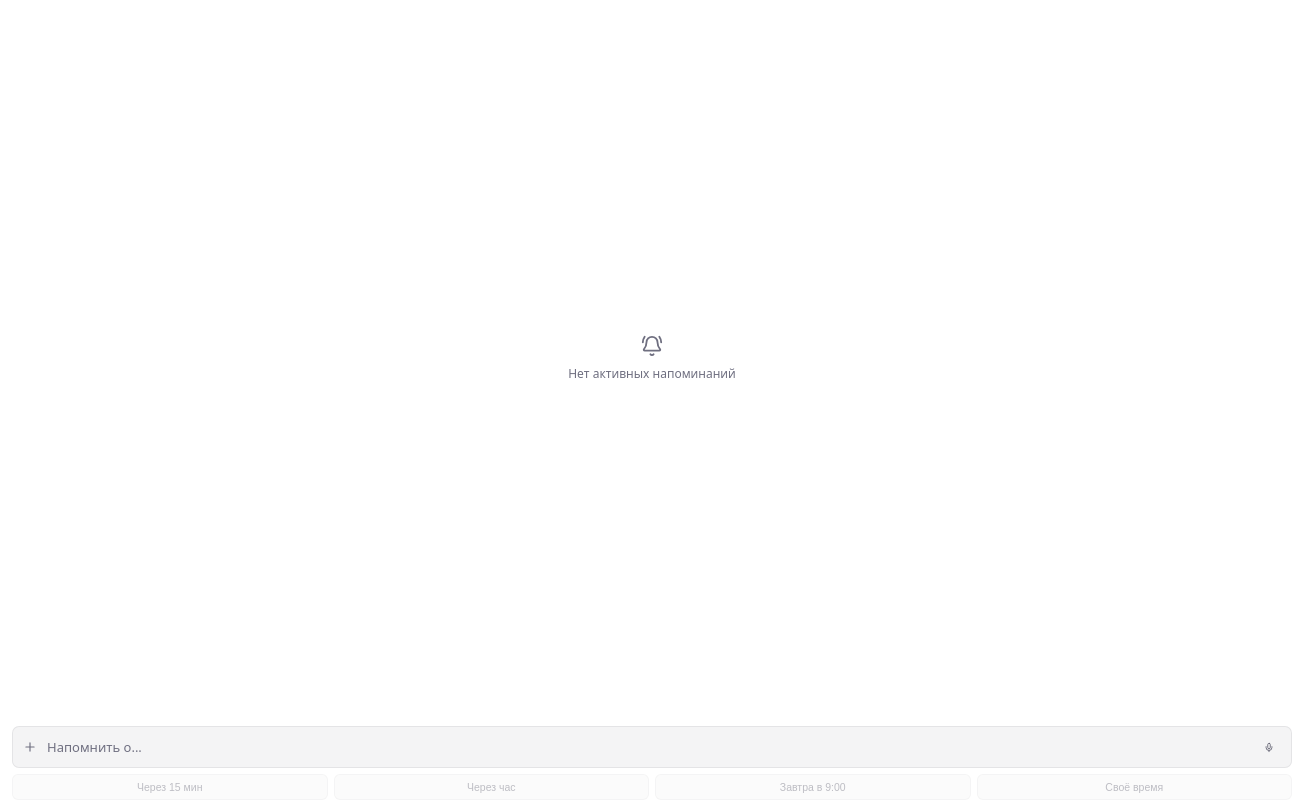
Test: RemindersView › creates a reminder with a custom date and time
Expected: the text "Нет активных напоминаний" is shown, [568,364,736,382]
Type "Встреча с командой" into the field with placeholder "Напомнить о..." at (647, 747), box [45,737,1249,757]
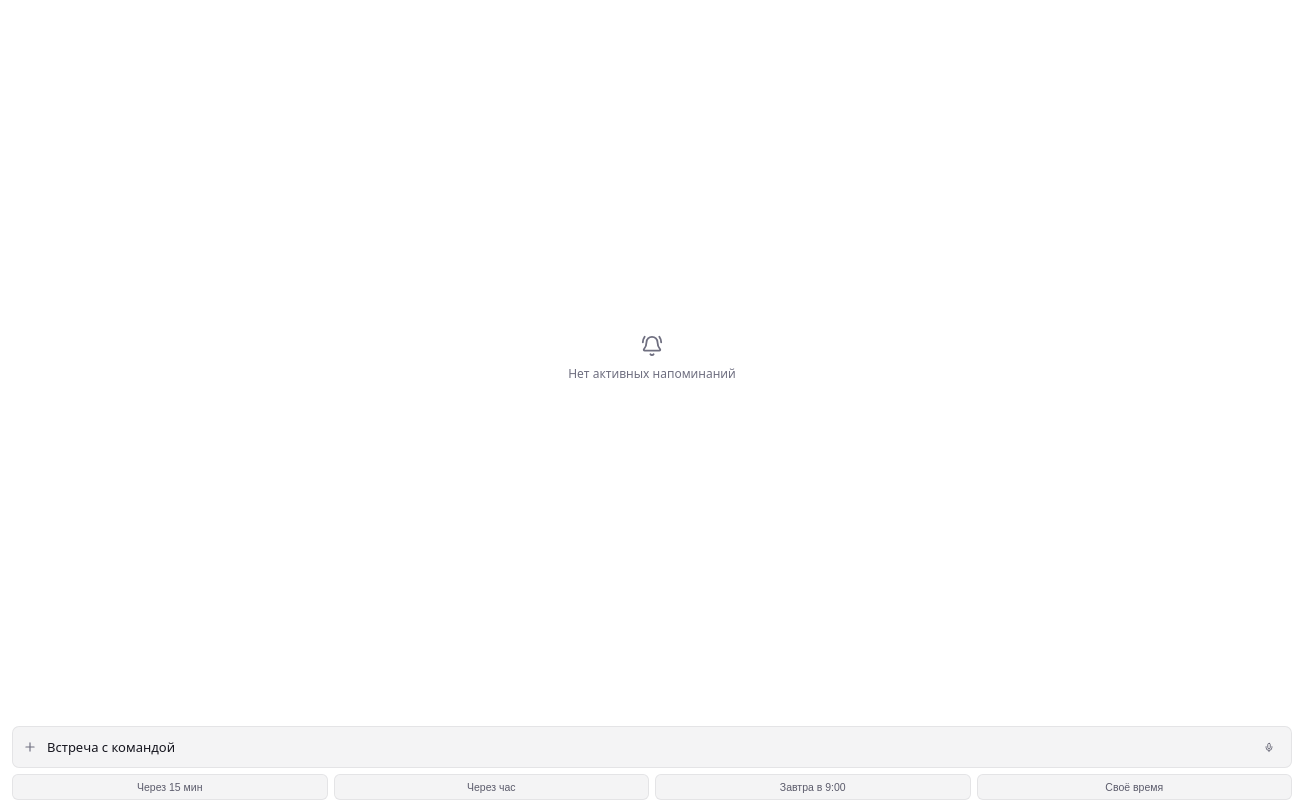
Click the button "Своё время" at (1134, 787), box [976,774,1292,799]
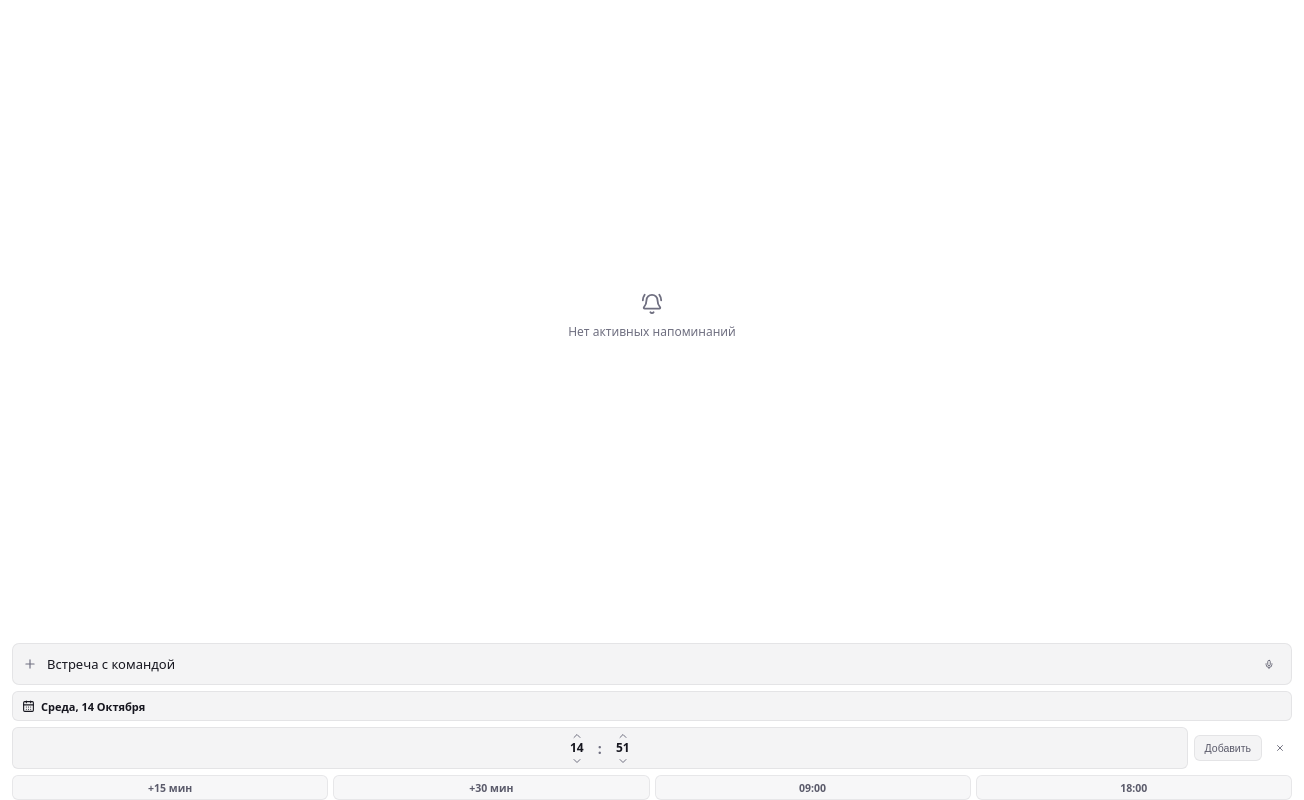
Expected: the button with aria-label "Дата и время напоминания" is shown, [12,691,1292,721]
Click the button "Добавить" at (1228, 748), box [1194,735,1262,761]
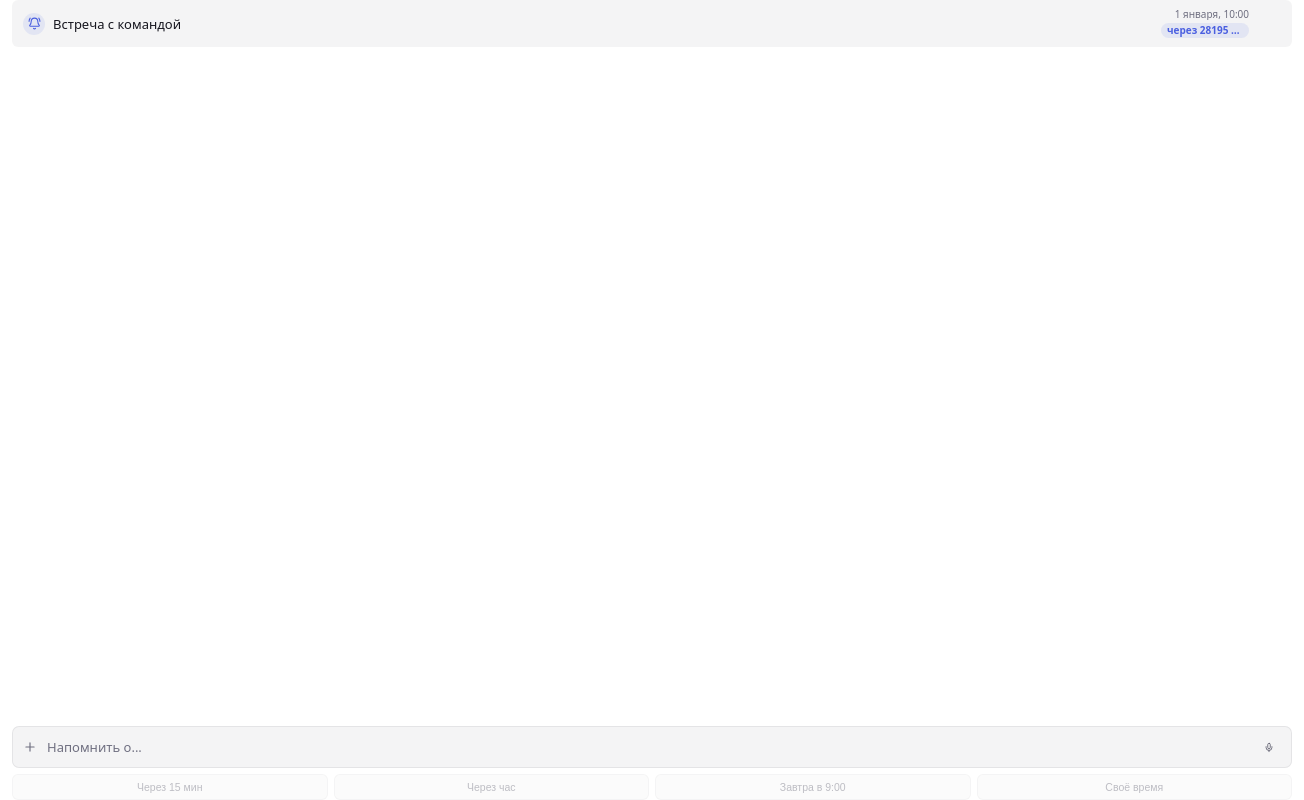
Expected: the button "Встреча с командой" is shown, [53,14,1153,32]
